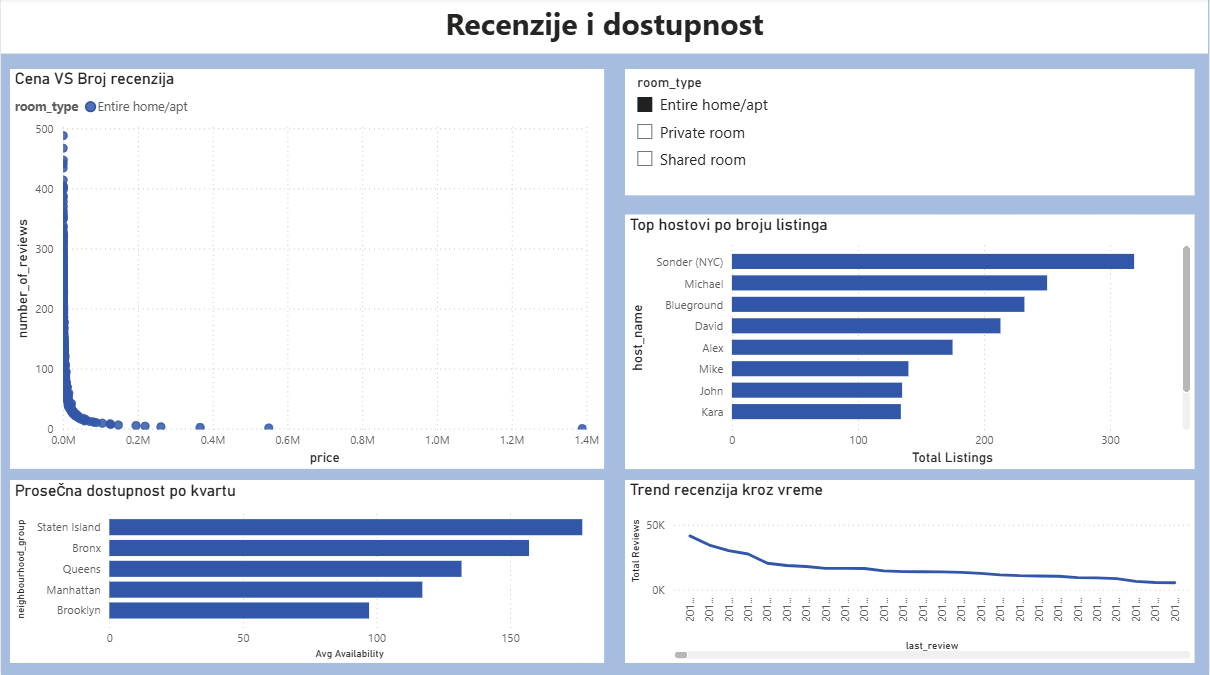

The dashboard page shown, as its layout file describes it:
{"tool":"powerbi","page":{"name":"Page 3","canvas":[1280,720],"ordinal":2},"visuals":[{"type":"scatterChart","title":"Cena VS Broj recenzija","fields":{"Series":["Dim_RoomType.room_type"],"X":["Sum(Fact_Listings.price)"],"Y":["Fact_Listings.number_of_reviews"]},"box":[10,76,630,424],"z":0},{"type":"lineChart","title":"Trend recenzija kroz vreme","fields":{"Category":["Fact_Listings.last_review"],"Y":["Fact_Listings.Total Reviews"]},"box":[662,512,604,194],"z":1000},{"type":"clusteredBarChart","title":"Top hostovi po broju listinga","fields":{"Category":["Dim_Host.host_name"],"Y":["Fact_Listings.Total Listings"]},"box":[662,230,604,270],"z":2000},{"type":"textbox","box":[0,0,1280,60],"z":3000},{"type":"slicer","fields":{"Values":["Dim_RoomType.room_type"]},"box":[662,76,604,134],"z":4000},{"type":"clusteredBarChart","title":"Prosečna dostupnost po kvartu","fields":{"Category":["Dim_Location.neighbourhood_group"],"Y":["Fact_Listings.Avg Availability"]},"box":[10,512,630,194],"z":5000}]}

Visuals, with their boxes in screenshot pixels (x1, y1, x2, y2), scaled from the page's 1280x720 canvas onto the 1210x675 screenshot:
"Cena VS Broj recenzija" scatterChart: Rect(9, 71, 605, 469)
"Trend recenzija kroz vreme" lineChart: Rect(626, 480, 1197, 662)
"Top hostovi po broju listinga" clusteredBarChart: Rect(626, 216, 1197, 469)
textbox: Rect(0, 0, 1209, 56)
slicer - Dim_RoomType.room_type: Rect(626, 71, 1197, 197)
"Prosečna dostupnost po kvartu" clusteredBarChart: Rect(9, 480, 605, 662)
